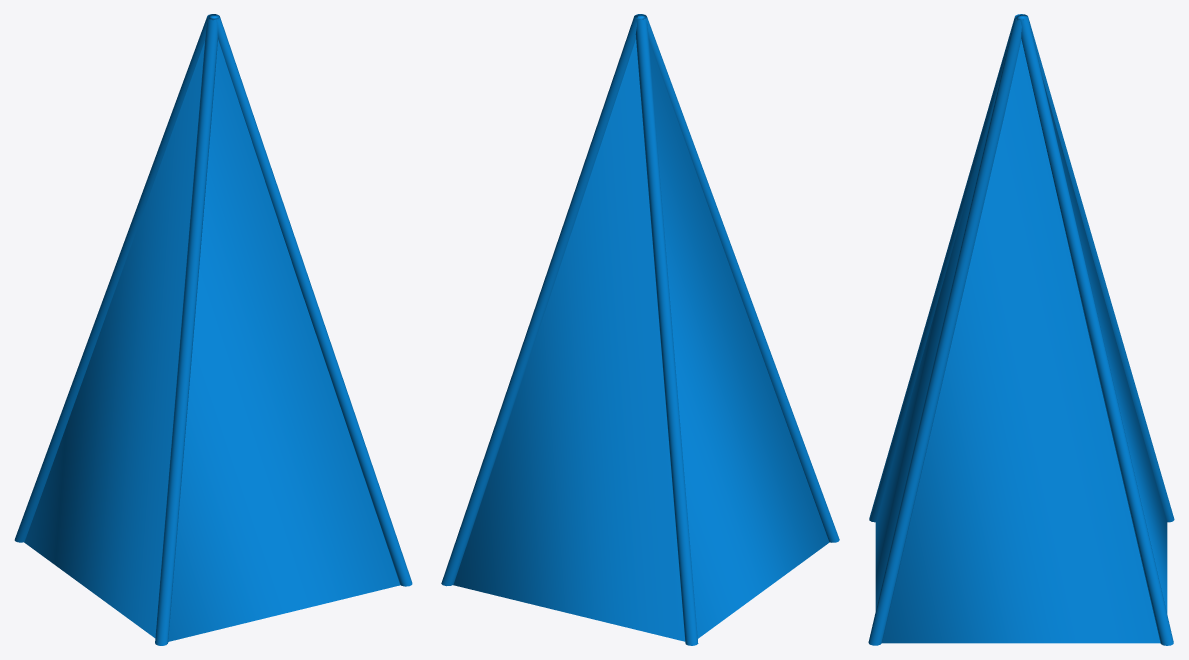
The model's file is Bell_Tower_Roof.fbx.
3 renders of one model, left to right at view 1: azimuth 30°, elevation 25°; view 2: azimuth 150°, elevation 25°; view 3: azimuth 270°, elevation 25°, orthographic. The views are drawn at different scales.
Visible parts, largest first — view 1: Bell_Tower_Roof; view 2: Bell_Tower_Roof; view 3: Bell_Tower_Roof.
Boxes of the visible parts, <box> form: Bell_Tower_Roof: <box>14,14,412,645</box>; Bell_Tower_Roof: <box>441,14,839,645</box>; Bell_Tower_Roof: <box>868,14,1174,645</box>.
Bounding box in the file's own units: 315 × 641 × 315.
